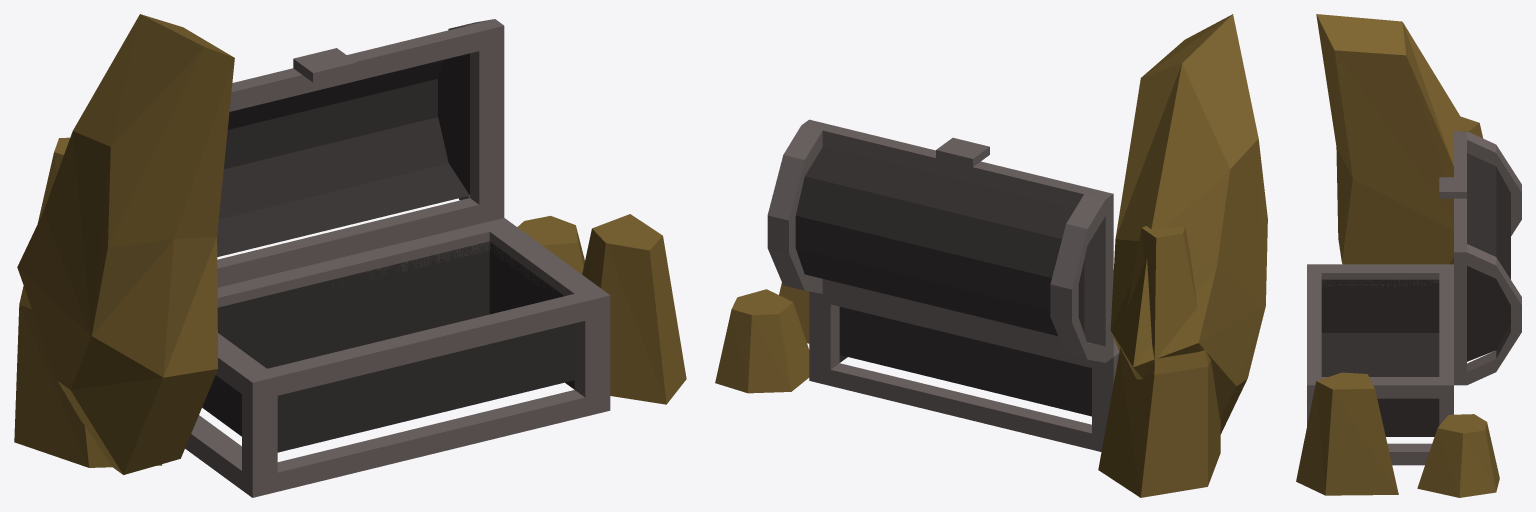
Rendered from obj_unlocked_ogre_chest_0.obj.
3 views of the same model, side by side, from view 1: azimuth 30°, elevation 25°; view 2: azimuth 150°, elevation 25°; view 3: azimuth 270°, elevation 25° (orthographic). The views are drawn at different scales.
Size of the model in its own units: 1.96 by 1.48 by 0.9609.
